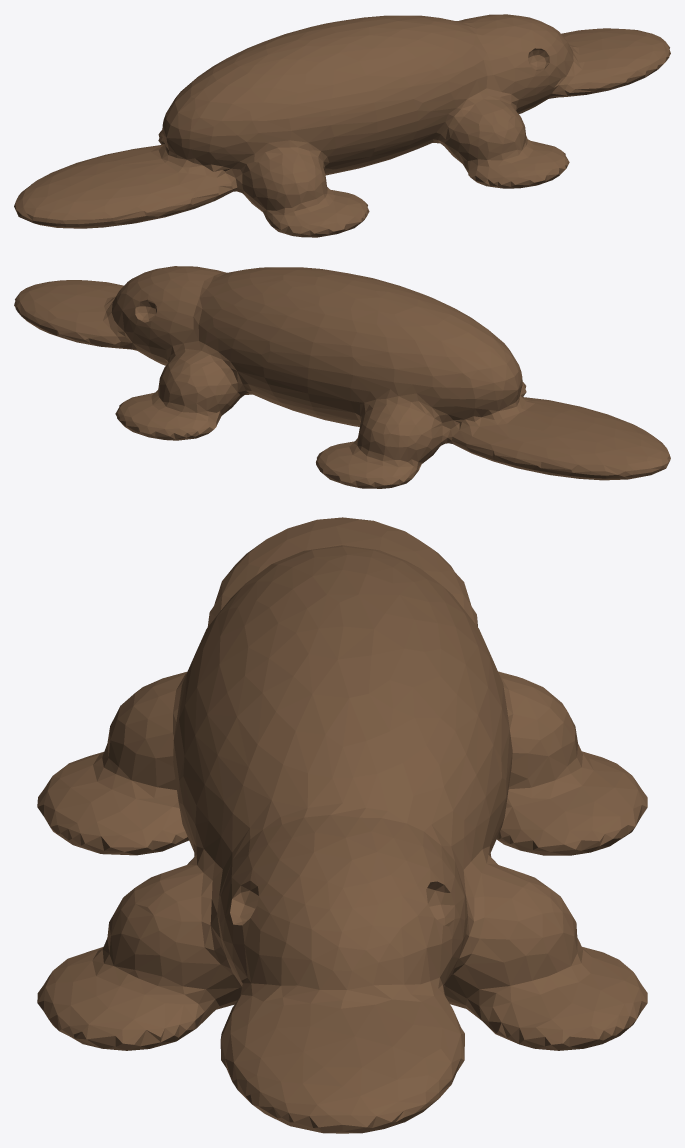
File: NEW_RECOVERY_053_LOD0.glb
3 views of the same model, one above another, from view 1: azimuth 30°, elevation 25°; view 2: azimuth 150°, elevation 25°; view 3: azimuth 270°, elevation 25° (orthographic). The views are drawn at different scales.
Visible parts, largest first — view 1: Platypus_whole_continuous_skin; view 2: Platypus_whole_continuous_skin; view 3: Platypus_whole_continuous_skin.
Part boxes in pixels (x1=…): Platypus_whole_continuous_skin: x1=14, y1=14, x2=670, y2=237; Platypus_whole_continuous_skin: x1=14, y1=266, x2=670, y2=488; Platypus_whole_continuous_skin: x1=37, y1=517, x2=647, y2=1133.
Size of the model in its own units: 4.28 by 0.8653 by 1.75.
